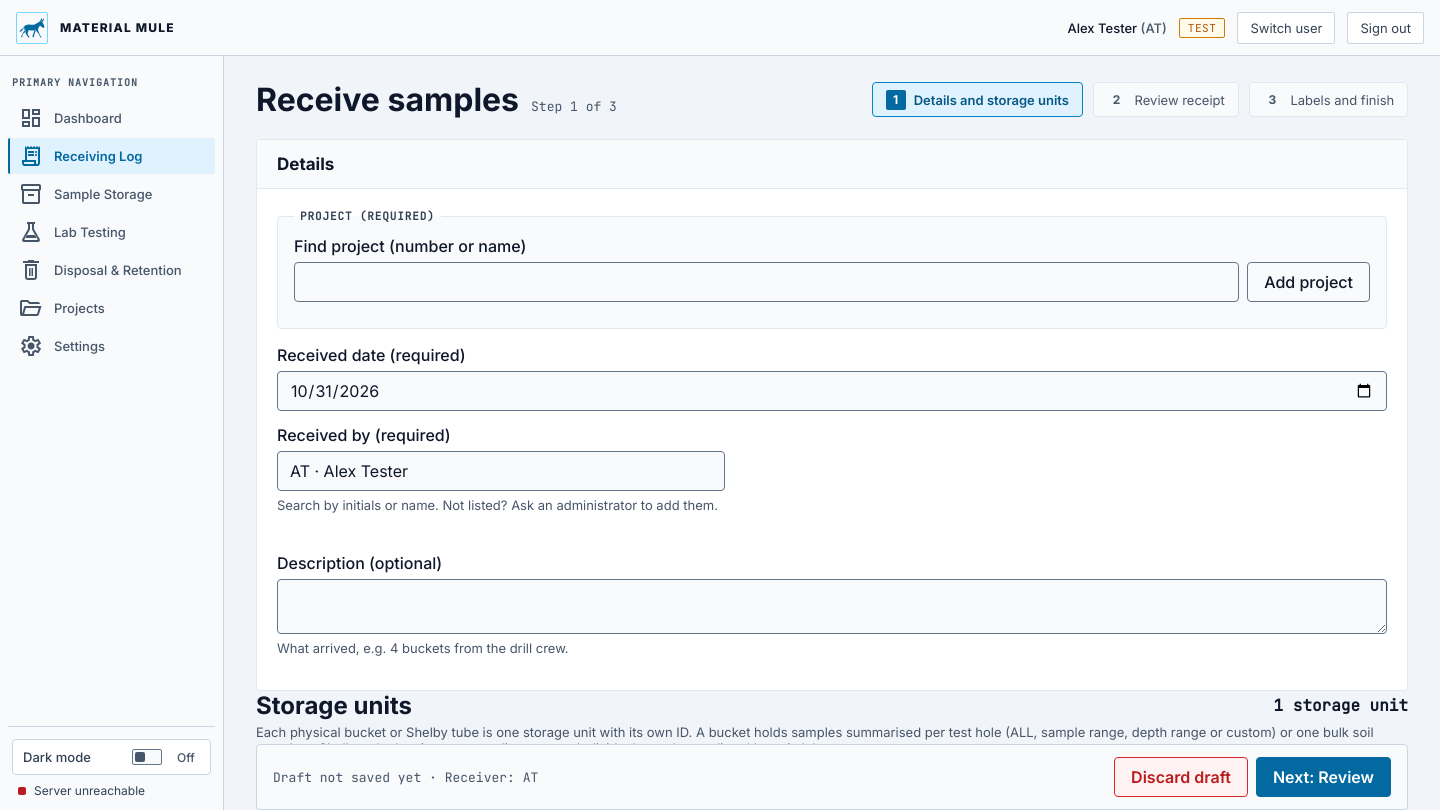
Scenario: Receive samples: project and test holes (MM-T08) › MM-T66 UI-04, MISC-06: Add project lists only Engineer staff › offers active Engineer staff only, in one list without groups, by job title not position
Type "70003" into the dropdown labelled "Find project (number or name)" at (767, 282), box top-left (294, 262), bottom-right (1239, 302)
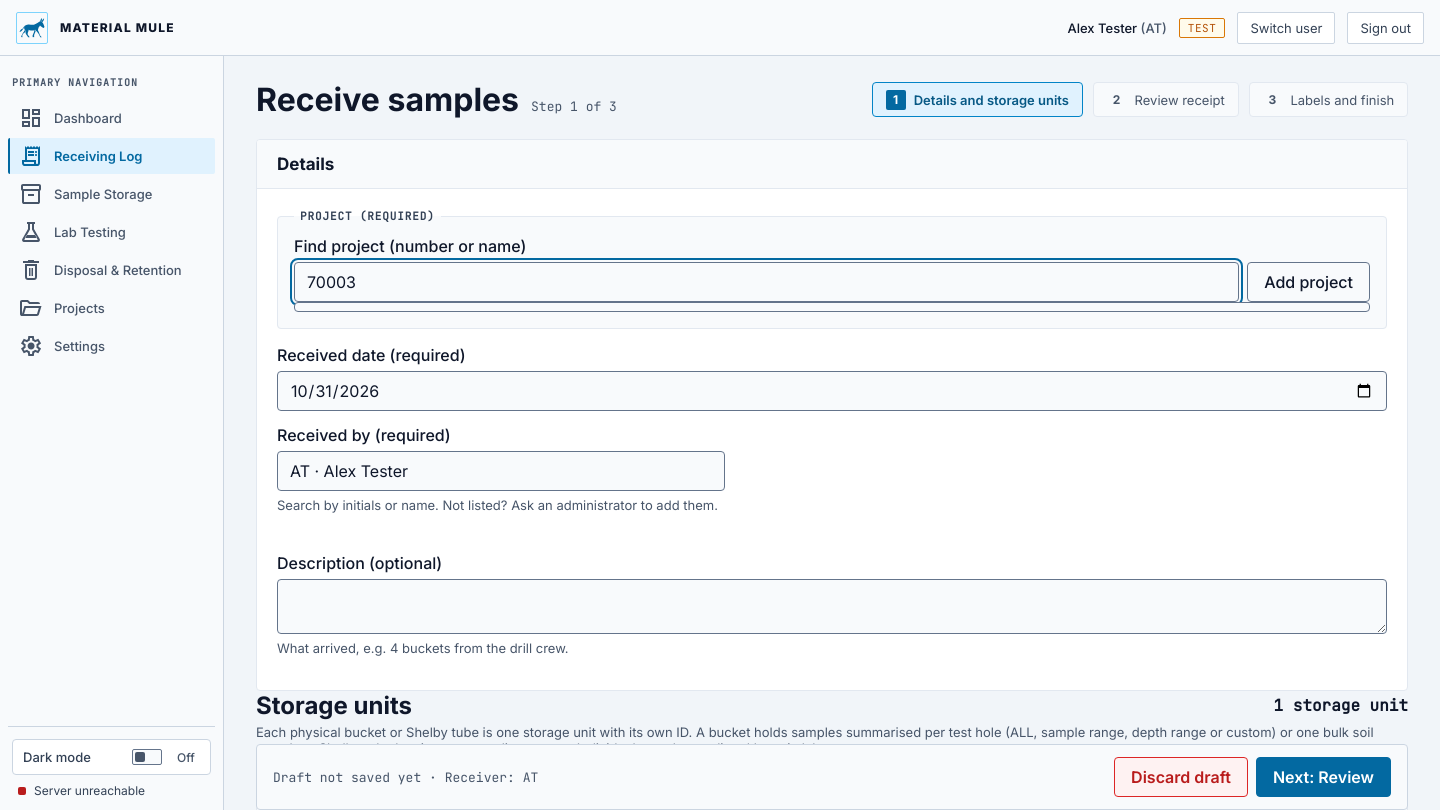
Click the button "Add project" at (1309, 282), box top-left (1247, 262), bottom-right (1370, 302)
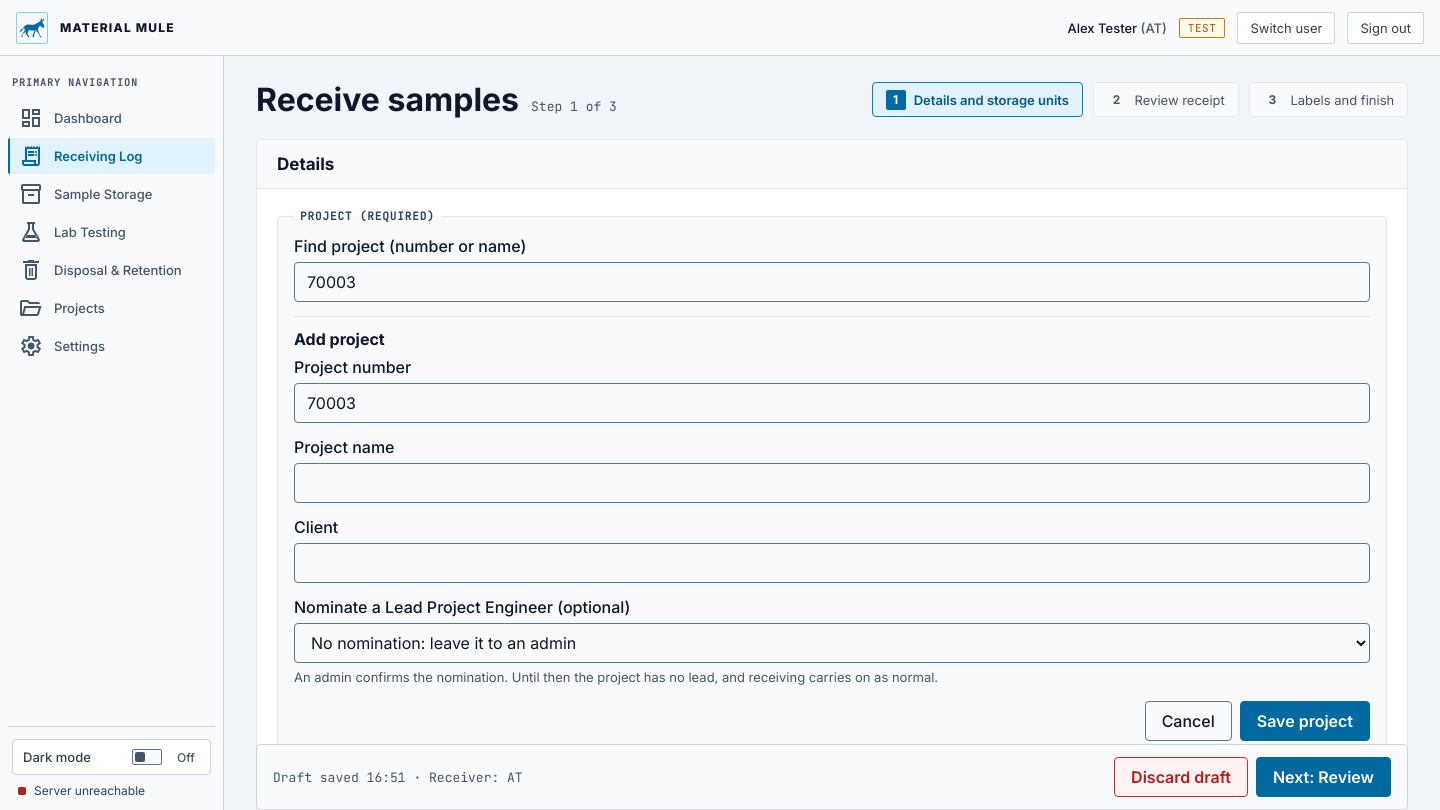
Result: the text "An admin confirms the nomination." is shown at top-left (294, 669), bottom-right (938, 685)
